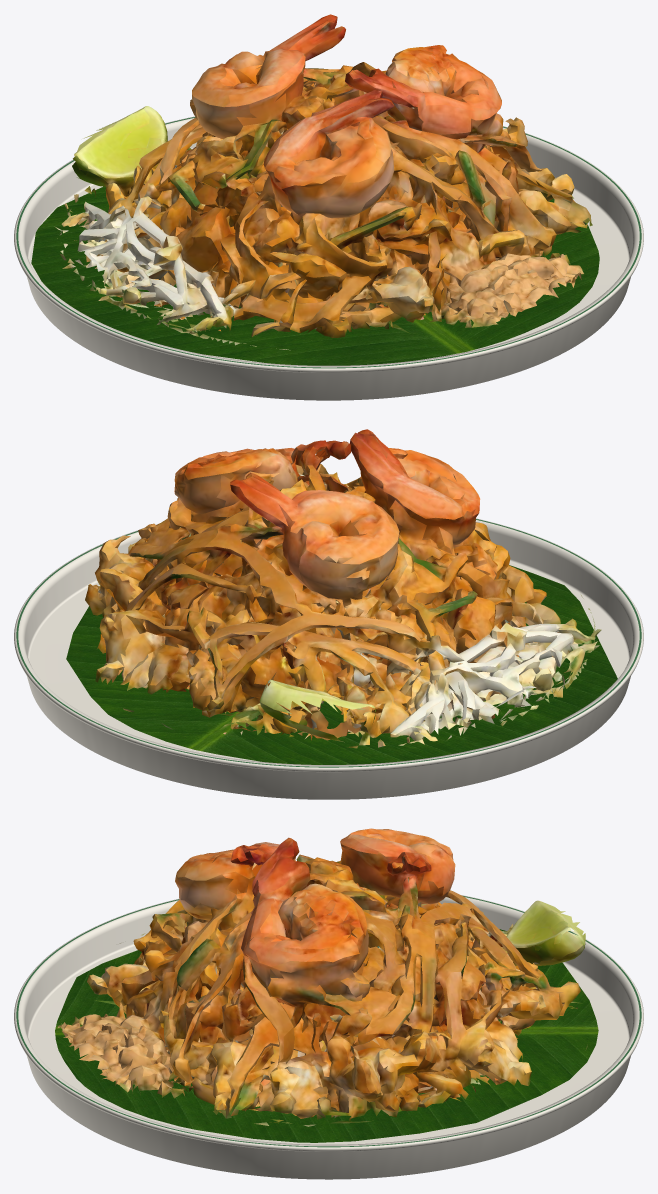
File: pad-thai-0.glb
3 renders of one model, top to bottom at view 1: azimuth 30°, elevation 25°; view 2: azimuth 150°, elevation 25°; view 3: azimuth 270°, elevation 25°, orthographic.
Visible parts, largest first — view 1: food/independent-stage-0, support/regular-closed-plate, canonical/continuous-leaf-repair; view 2: food/independent-stage-0, support/regular-closed-plate, canonical/continuous-leaf-repair; view 3: food/independent-stage-0, support/regular-closed-plate, canonical/continuous-leaf-repair.
Boxes of the visible parts, x1=… form: food/independent-stage-0: x1=54, y1=14, x2=592, y2=350; support/regular-closed-plate: x1=14, y1=116, x2=643, y2=400; canonical/continuous-leaf-repair: x1=31, y1=186, x2=599, y2=365; food/independent-stage-0: x1=85, y1=429, x2=601, y2=748; support/regular-closed-plate: x1=14, y1=518, x2=643, y2=799; canonical/continuous-leaf-repair: x1=66, y1=565, x2=617, y2=764; food/independent-stage-0: x1=58, y1=828, x2=587, y2=1126; support/regular-closed-plate: x1=14, y1=895, x2=643, y2=1179; canonical/continuous-leaf-repair: x1=55, y1=929, x2=598, y2=1142.
Size of the model in its own units: 2.64 by 1.02 by 2.64.
4 materials, 2 textured.
